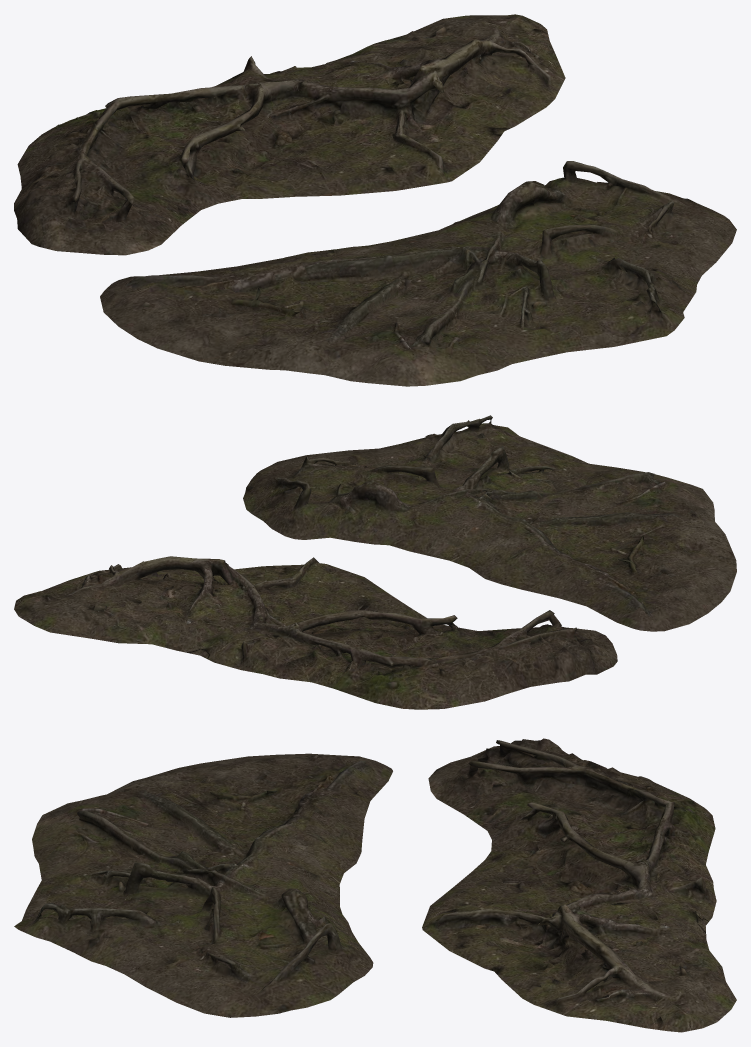
File: pine_roots_wood.glb
3 views of the same model, one above another, from view 1: azimuth 30°, elevation 25°; view 2: azimuth 150°, elevation 25°; view 3: azimuth 270°, elevation 25° (orthographic). The views are drawn at different scales.
Visible parts, largest first — view 1: pine_roots_b, pine_roots_a; view 2: pine_roots_b, pine_roots_a; view 3: pine_roots_b, pine_roots_a.
Part boxes in pixels (x1,y1,x2,y2): pine_roots_b: (100,161,736,386); pine_roots_a: (14,14,565,255); pine_roots_b: (243,415,736,631); pine_roots_a: (14,556,617,709); pine_roots_b: (14,753,392,1017); pine_roots_a: (422,738,736,1032).
Size of the model in its own units: 1.77 by 0.1538 by 1.89.
Materials: 2 (2 with a texture image).
